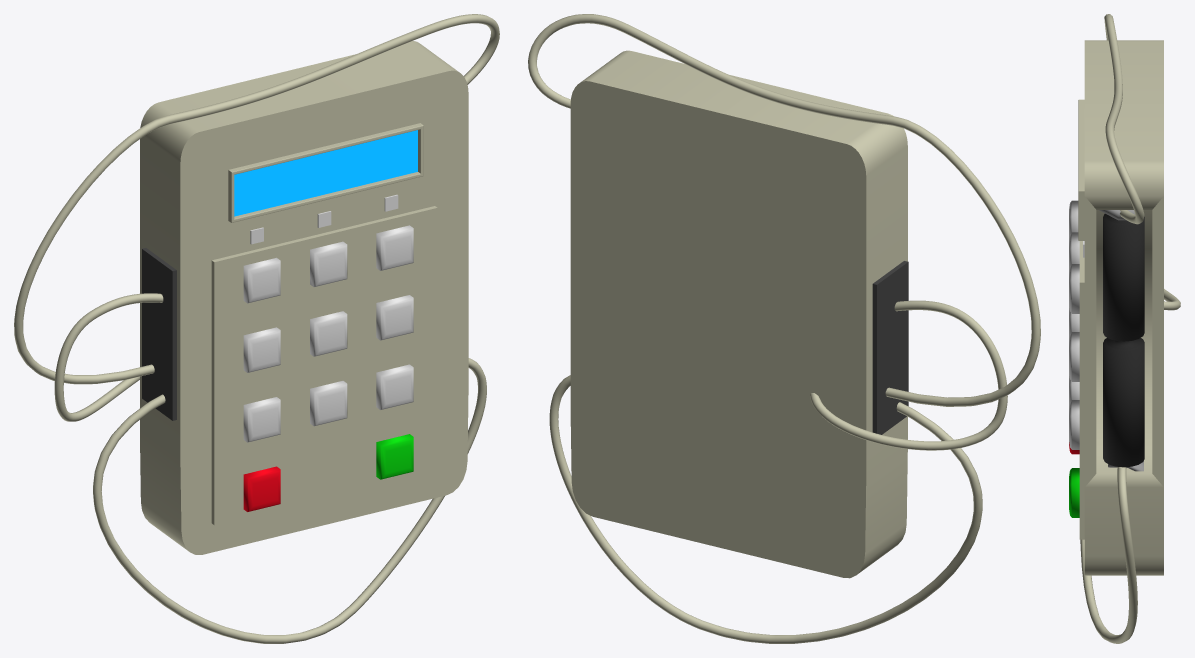
Rendered from CodeLock.fbx.
3 views of the same model, side by side, from view 1: azimuth 30°, elevation 25°; view 2: azimuth 150°, elevation 25°; view 3: azimuth 270°, elevation 25° (orthographic). The views are drawn at different scales.
Parts seen in each view (by area): view 1: CodeLockBody, Key3, Key7, ConfirmKey, Key1, Key2, Key4, Key6, Key8, Key9, DenyKey, Key5; view 2: CodeLockBody; view 3: CodeLockBody, ConfirmKey, Key3, Key6, Key9, Key2, Key1, Key5, Key8.
Part boxes in pixels (left/top/right/bottom): CodeLockBody: left=14, top=14, right=499, bottom=643; Key3: left=376, top=225, right=413, bottom=270; Key7: left=243, top=397, right=280, bottom=442; ConfirmKey: left=376, top=434, right=413, bottom=479; Key1: left=243, top=257, right=280, bottom=303; Key2: left=310, top=241, right=347, bottom=286; Key4: left=243, top=327, right=280, bottom=372; Key6: left=376, top=295, right=413, bottom=340; Key8: left=310, top=381, right=347, bottom=426; Key9: left=376, top=364, right=413, bottom=409; DenyKey: left=243, top=466, right=280, bottom=511; Key5: left=310, top=311, right=347, bottom=356; CodeLockBody: left=528, top=14, right=1040, bottom=643; CodeLockBody: left=1078, top=14, right=1180, bottom=643; ConfirmKey: left=1069, top=468, right=1079, bottom=517; Key3: left=1069, top=264, right=1079, bottom=313; Key6: left=1069, top=332, right=1079, bottom=381; Key9: left=1069, top=400, right=1079, bottom=449; Key2: left=1069, top=232, right=1079, bottom=271; Key1: left=1069, top=200, right=1078, bottom=239; Key5: left=1069, top=308, right=1079, bottom=339; Key8: left=1069, top=376, right=1079, bottom=407.
Bounding box in the file's own units: 74.87 × 84.5 × 15.09.
